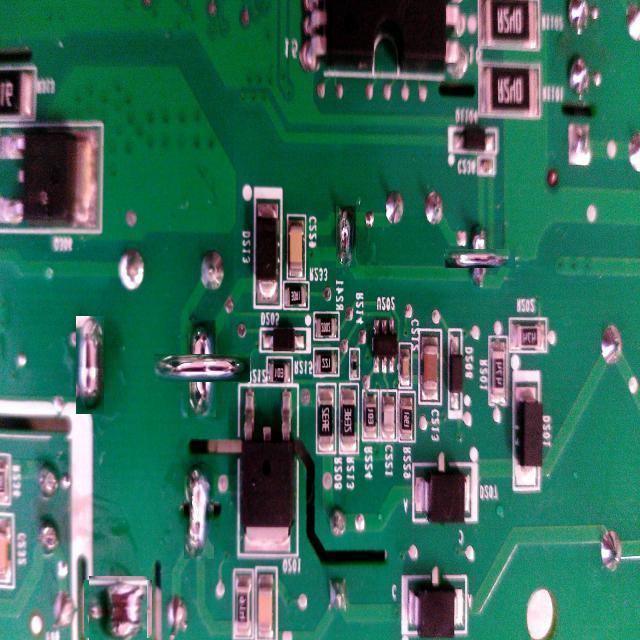Short_circuit: (86, 577, 149, 640), (171, 337, 233, 400), (184, 464, 214, 559), (76, 316, 104, 414), (457, 236, 503, 281), (336, 206, 356, 268)
